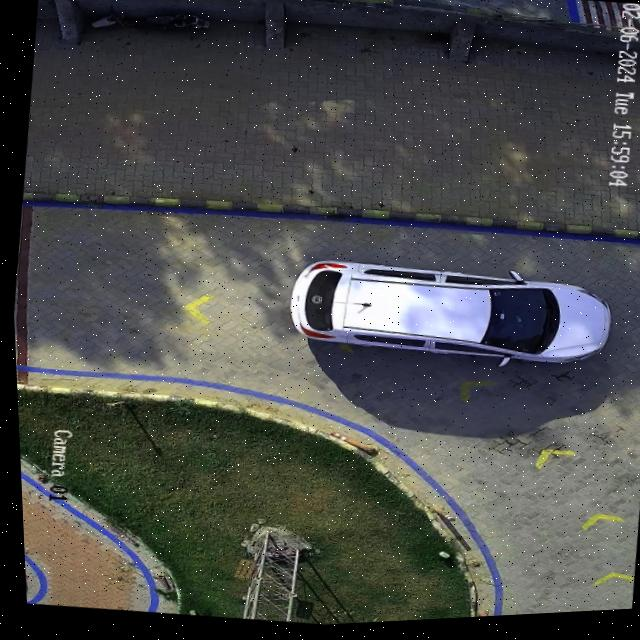car: (287, 264, 606, 369)
